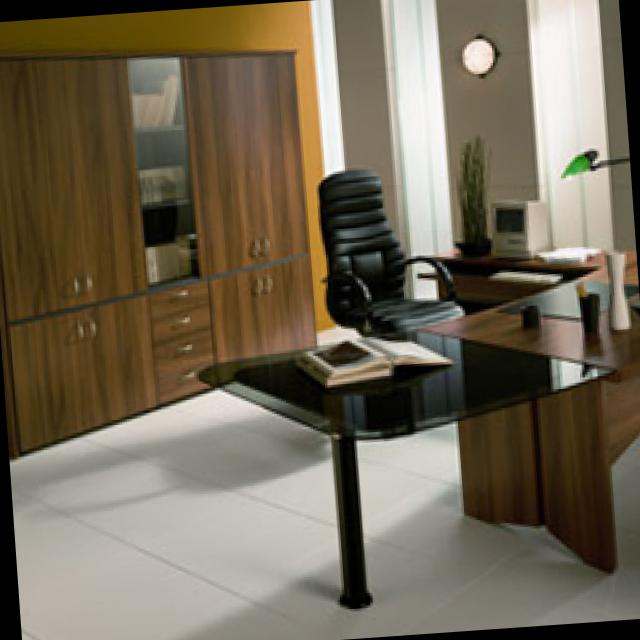2001: (523, 0, 611, 250), (380, 0, 448, 248), (305, 0, 344, 167)
book case: (290, 333, 448, 385)
books crop: (139, 231, 191, 280), (128, 70, 172, 123), (136, 162, 183, 200)
cabinets: (0, 47, 314, 457)
chair -occluded-: (312, 161, 462, 333)
cup and saucer: (574, 291, 596, 334), (514, 301, 536, 331)
desk calendar: (196, 240, 640, 609)
desk crop: (416, 247, 639, 359)
desk occluded: (495, 272, 631, 321)
keyboard crop: (485, 265, 560, 284)
lamp crop: (553, 145, 622, 178), (453, 31, 494, 74)
monitor crop: (487, 197, 546, 255)
papers: (541, 243, 595, 259)
plant -x: (452, 132, 486, 254)
table -X: (196, 324, 606, 606)
vase -X: (601, 251, 632, 332)
